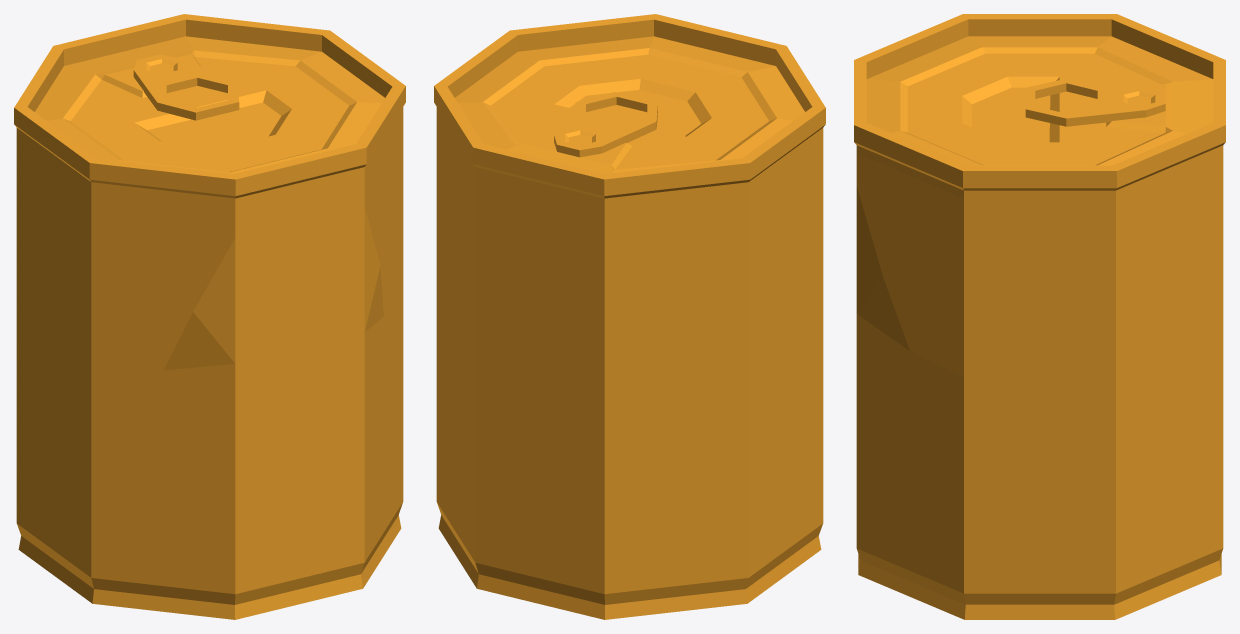
Rendered from SM_Can_Catfood_Big_Closed.fbx.
3 renders of one model, left to right at view 1: azimuth 30°, elevation 25°; view 2: azimuth 150°, elevation 25°; view 3: azimuth 270°, elevation 25°, orthographic.
Parts seen in each view (by area): view 1: SM_Can_Catfood_Big_Closed; view 2: SM_Can_Catfood_Big_Closed; view 3: SM_Can_Catfood_Big_Closed.
Part boxes in pixels (x1,y1,x2,y2): SM_Can_Catfood_Big_Closed: (14,14,405,619); SM_Can_Catfood_Big_Closed: (434,14,825,619); SM_Can_Catfood_Big_Closed: (854,14,1225,619).
Bounding box in the file's own units: 0.0823 × 0.11 × 0.0823.
